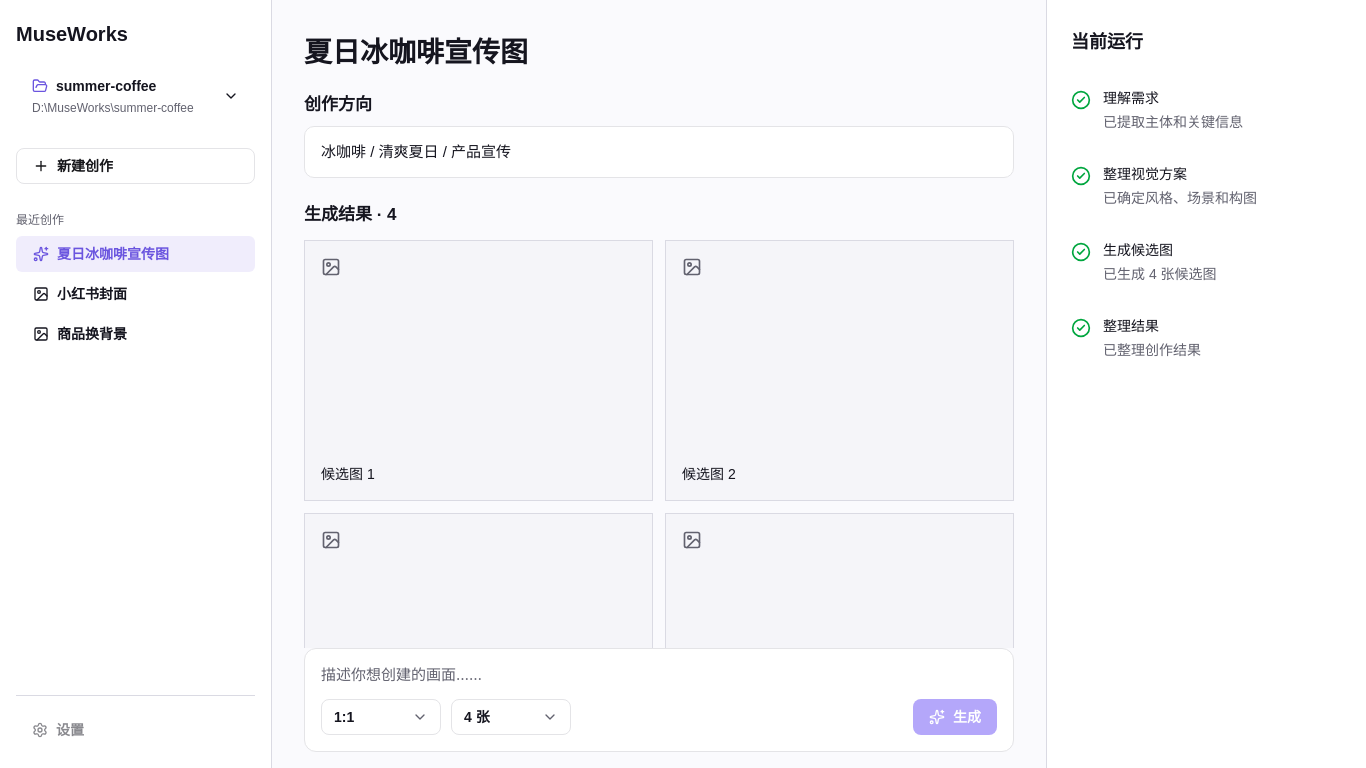
Test: creative workspace renderer › keeps the task selected after an earlier mock run would have completed
Check: the heading "夏日冰咖啡宣传图" is shown, box [304,37,528,68]
Click the button "新建创作": point(136, 166) [16,148,255,184]
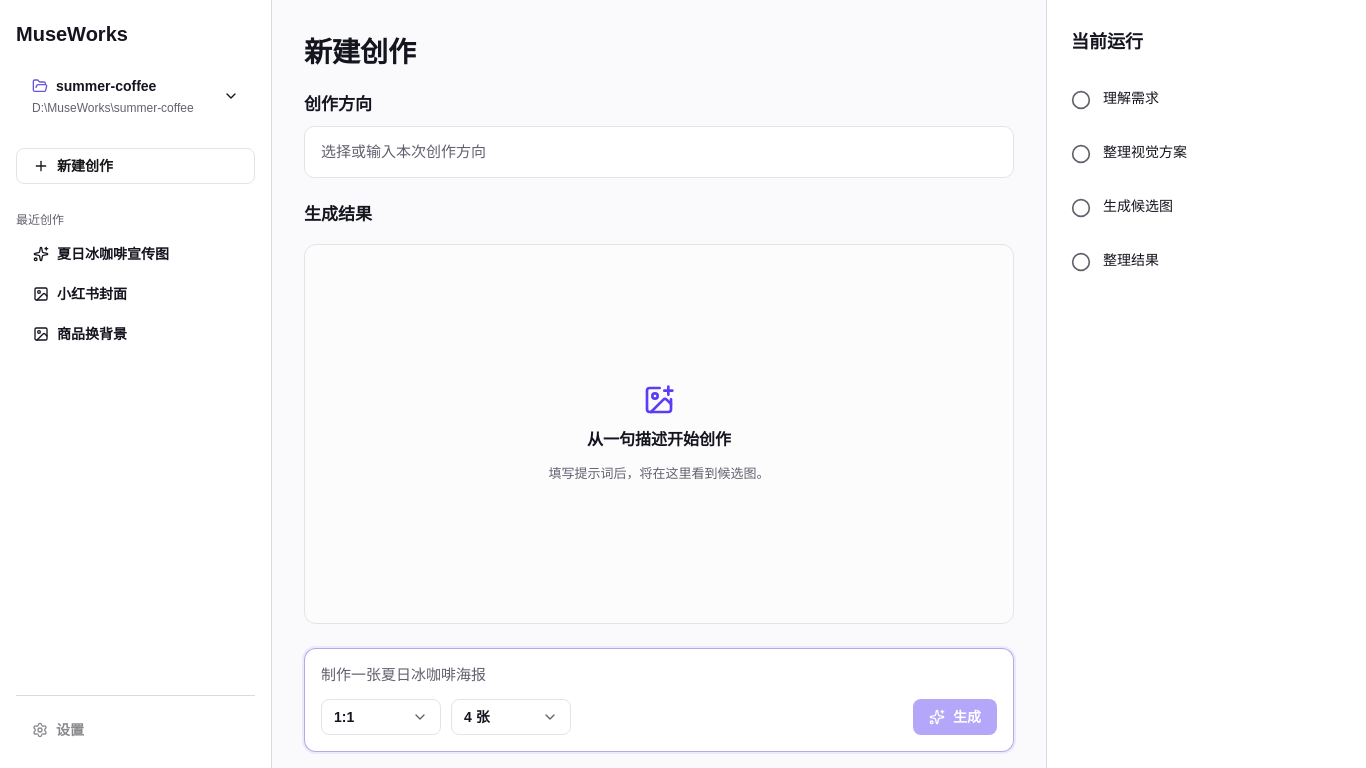
Clear the field named "创作描述": point(404, 674) [321,665,486,684]
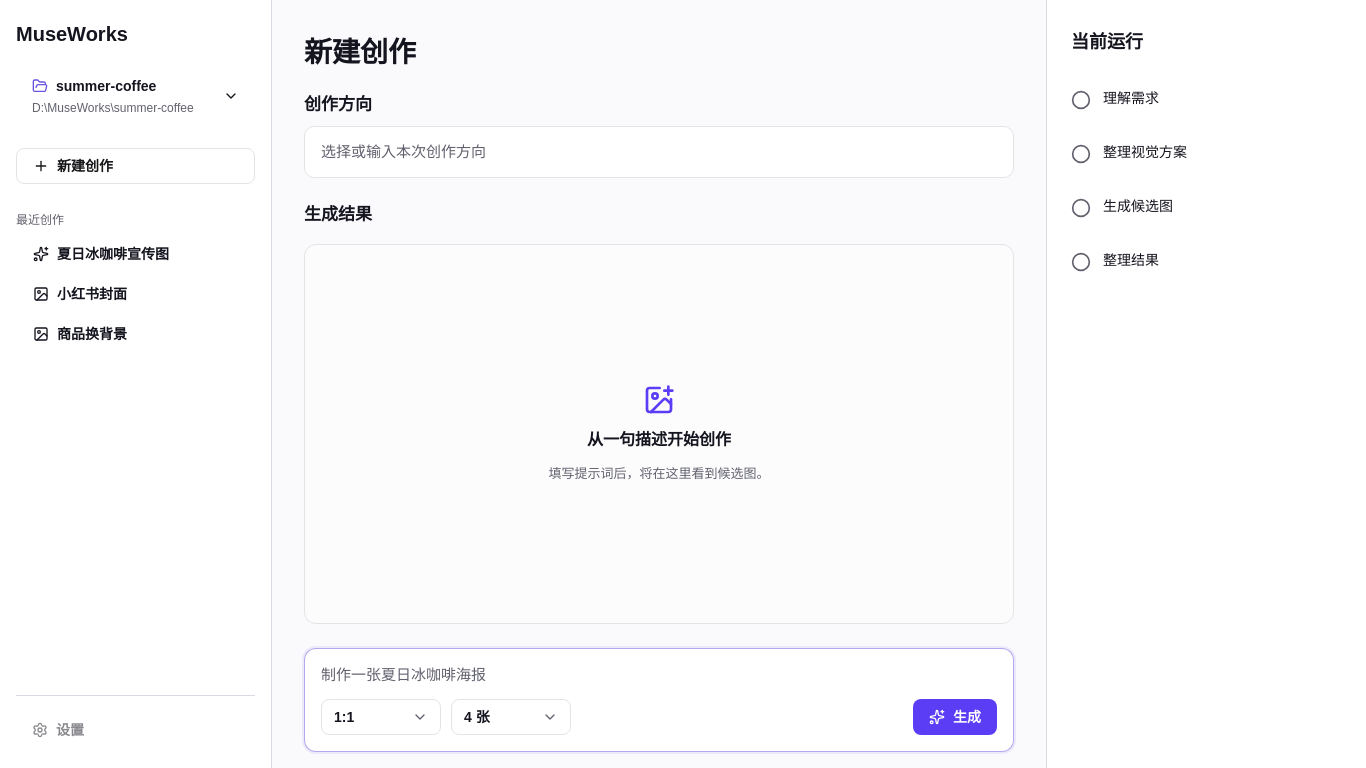
Check: the button "生成" is enabled, box [913,699,997,735]
Press Enter in the field named "创作描述", box [321,665,486,684]
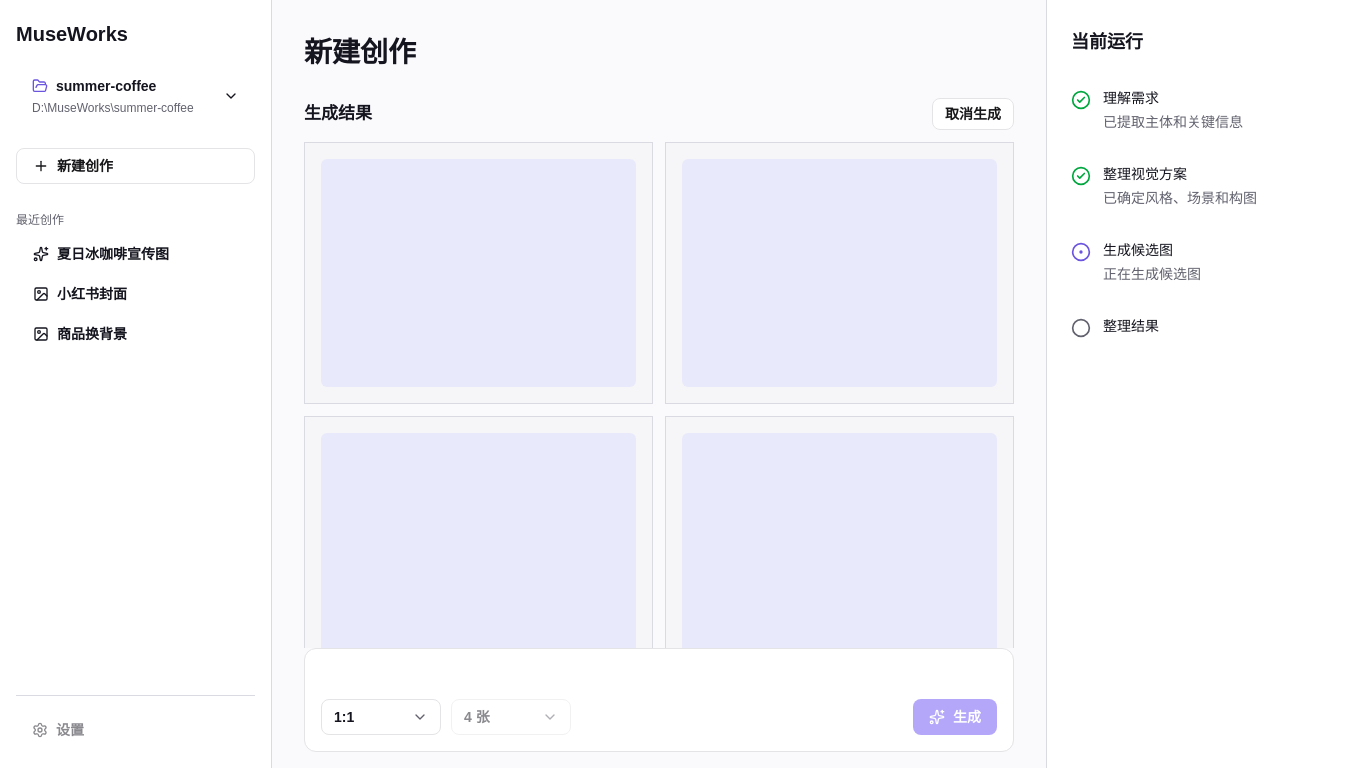
Check: the text "正在生成候选图" is shown, box [1103,264,1201,284]
Click the button "商品换背景": point(136, 334) [16,316,255,352]
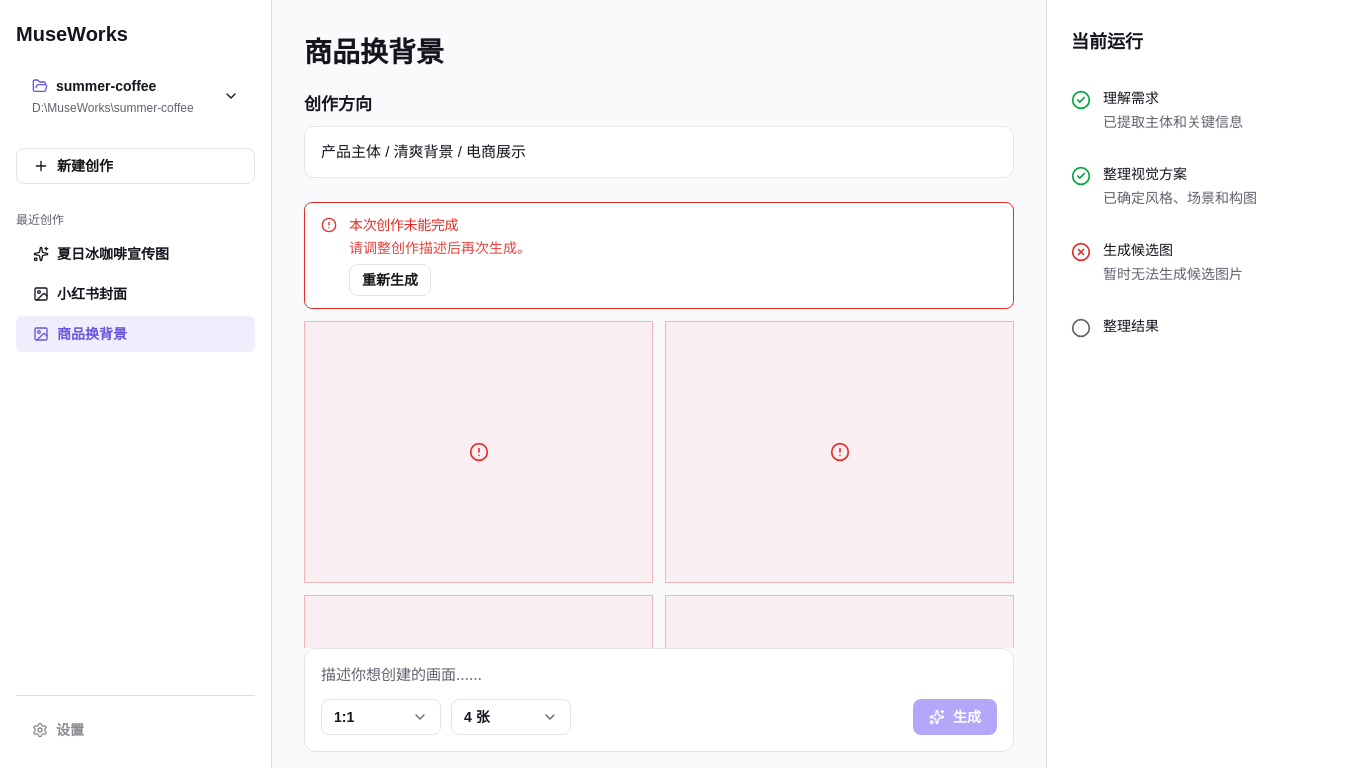
Check: the text "本次创作未能完成" is shown, box [349,217,458,233]
